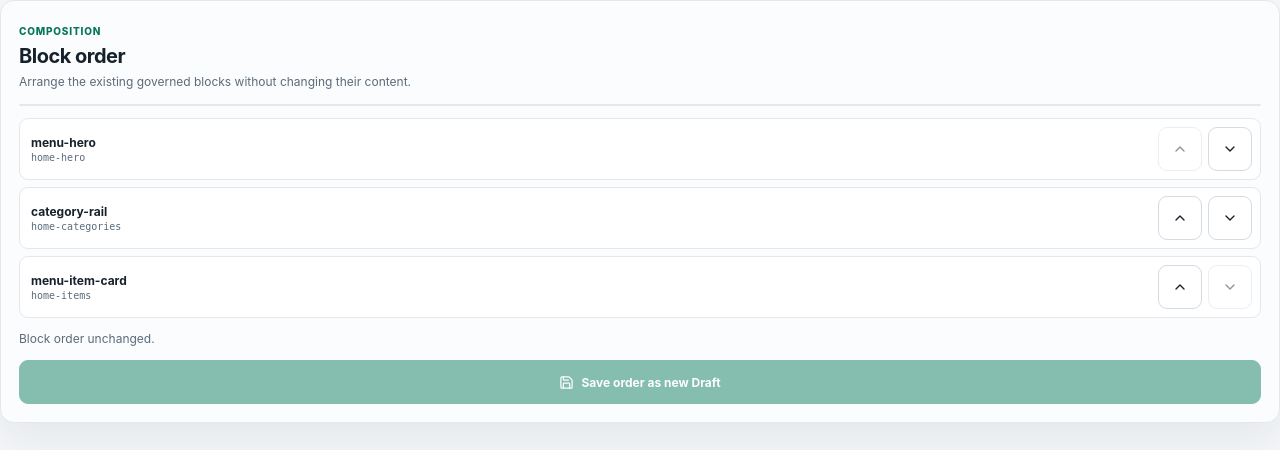
Test: TemplatePageBlockOrder › provides keyboard moves, disabled boundaries, status, and busy gating
Expected: the button named "Move menu-hero home-hero up" is disabled, left=1158, top=127, right=1202, bottom=171
Expected: the button named "Move menu-item-card home-items down" is disabled, left=1208, top=265, right=1252, bottom=309
Click the button named "Move menu-item-card home-items up".
click(1180, 287)  # box left=1158, top=265, right=1202, bottom=309
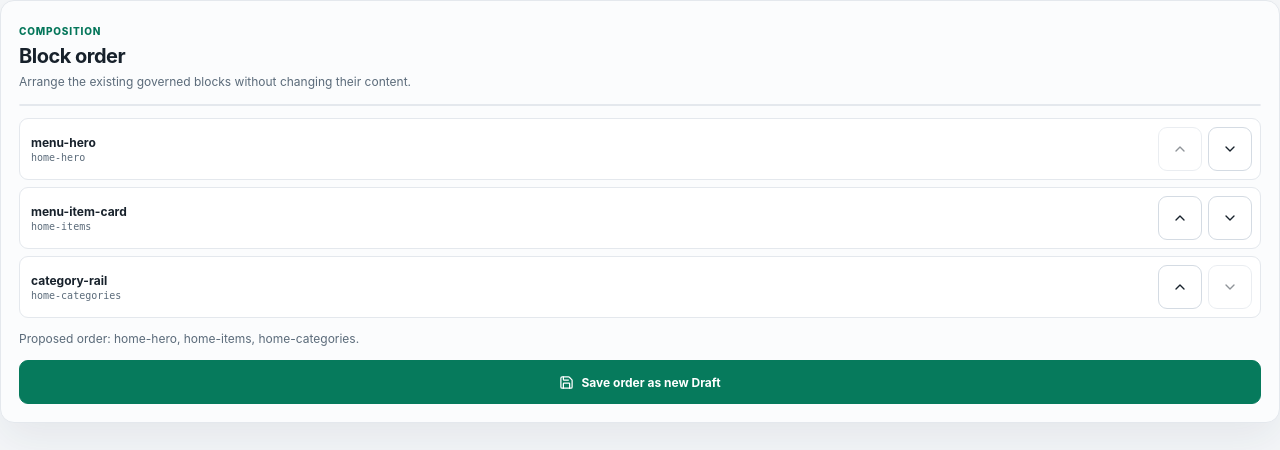
Expected: the message "Proposed order: home-hero, home-items, home-categories." is shown, left=19, top=331, right=359, bottom=346
Click the button with aria-label "Save block order".
click(640, 382)  # box left=19, top=360, right=1261, bottom=404
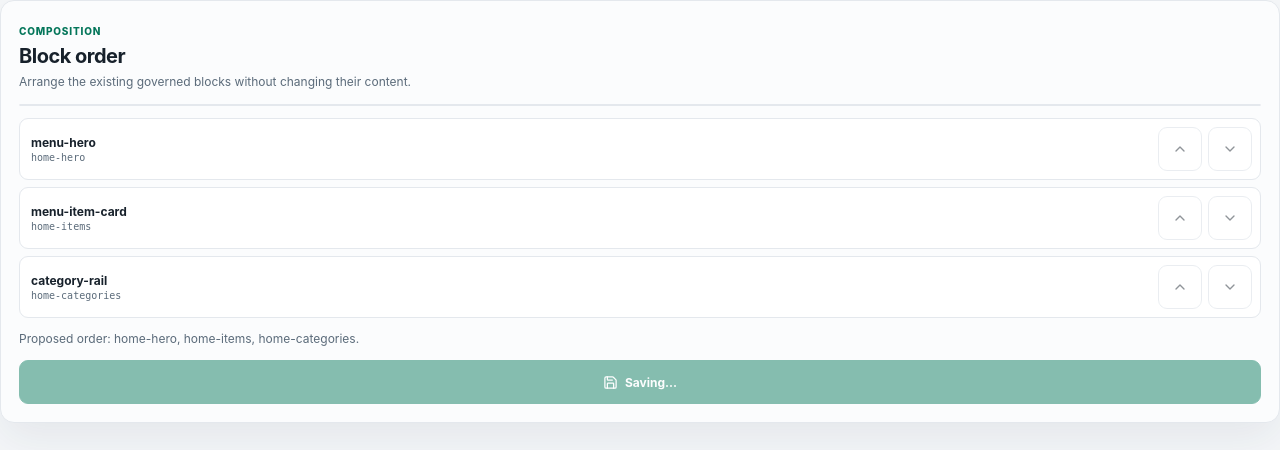
Expected: the button with aria-label "Save block order" is disabled, left=19, top=360, right=1261, bottom=404
